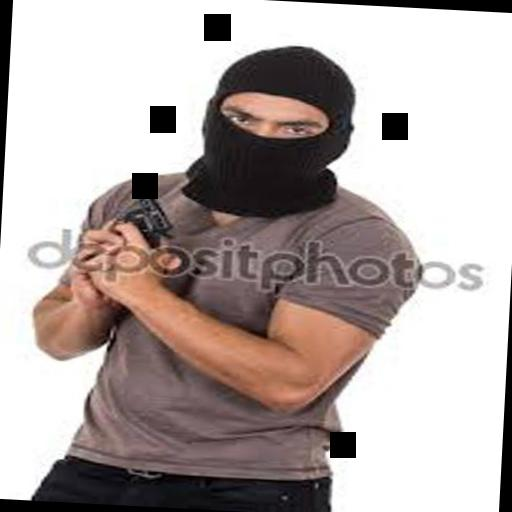Handgun: (117, 188, 175, 238)
